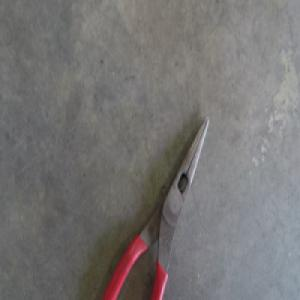Pliers: (103, 114, 209, 299)
